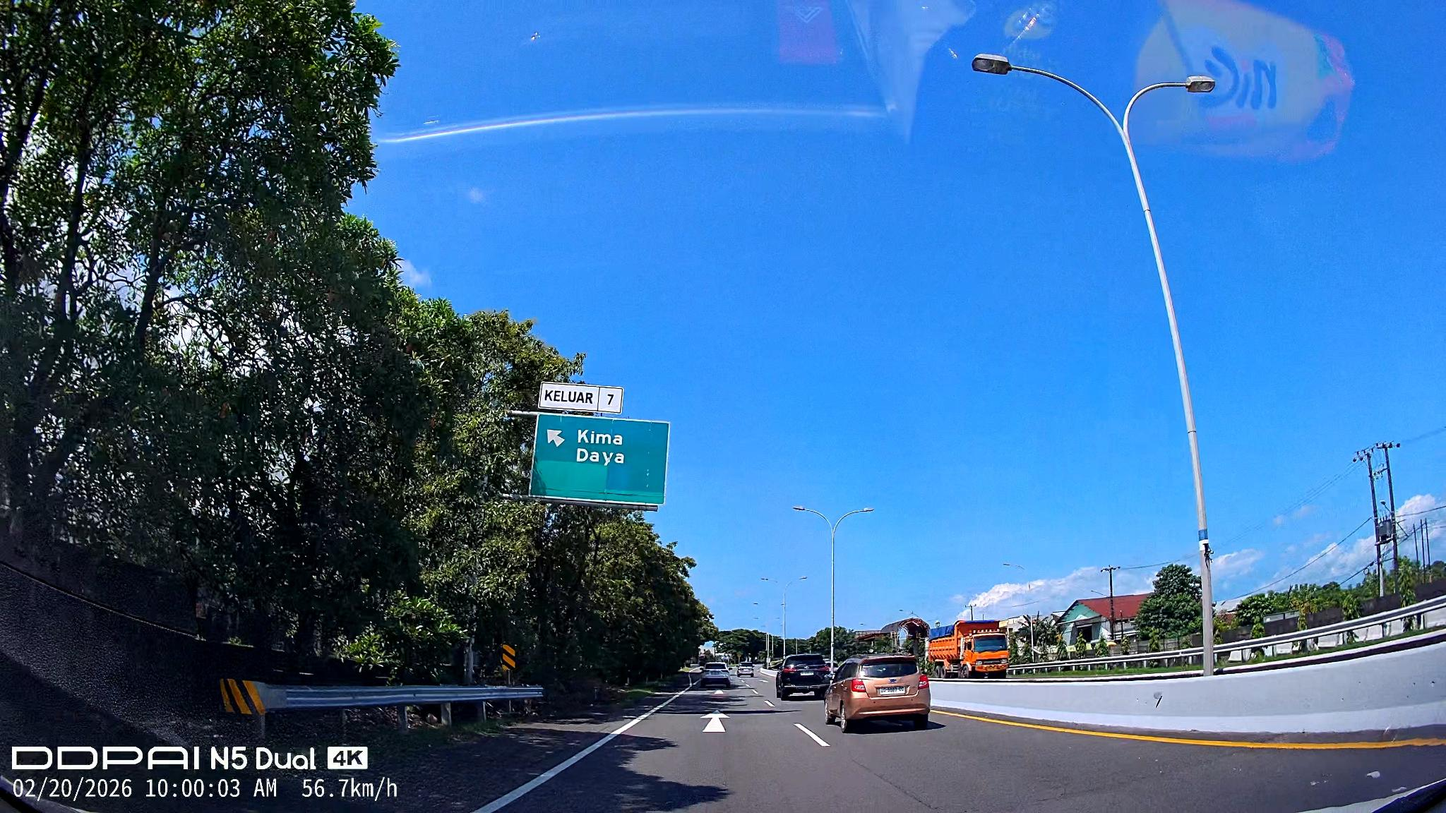rambu_teks: (527, 412, 671, 507)
